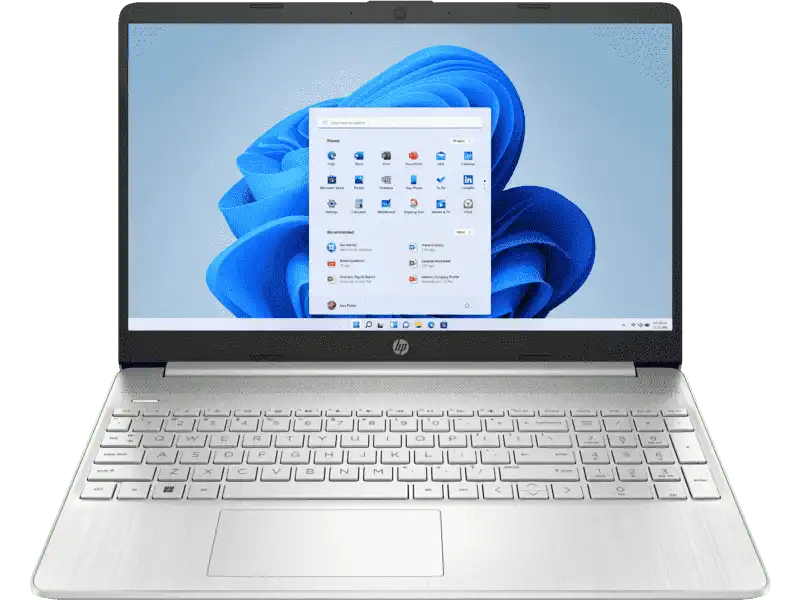laptop: (30, 1, 782, 600)
